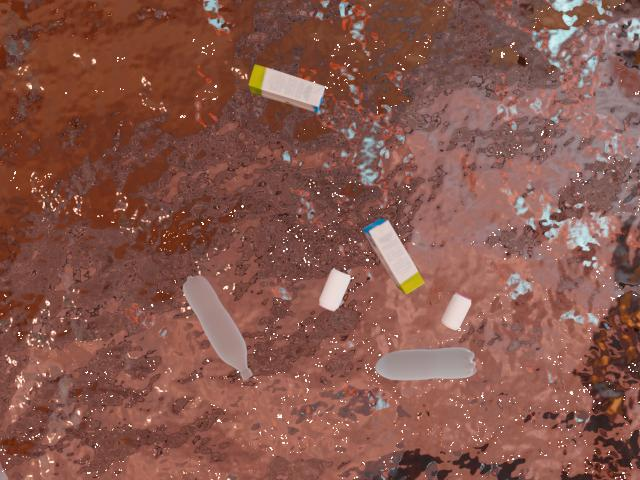Metal: (316, 264, 360, 314), (438, 284, 478, 331)
Plastic: (157, 262, 268, 390), (364, 341, 504, 385)
Trash: (345, 199, 433, 308)
